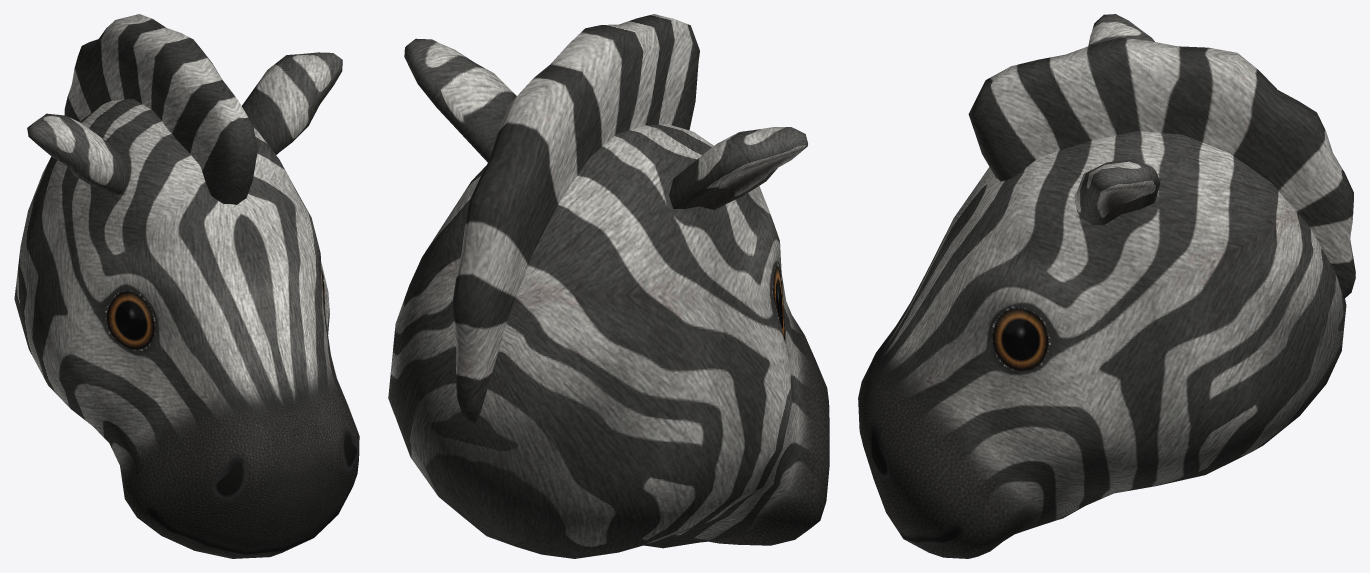
The model's file is CRT0110001.FBX.
3 views of the same model, side by side, from view 1: azimuth 30°, elevation 25°; view 2: azimuth 150°, elevation 25°; view 3: azimuth 270°, elevation 25° (orthographic). The views are drawn at different scales.
Visible parts, largest first — view 1: smCRT0110001; view 2: smCRT0110001; view 3: smCRT0110001.
Boxes of the visible parts, left/top/right/bottom form: smCRT0110001: left=14, top=14, right=359, bottom=558; smCRT0110001: left=388, top=14, right=829, bottom=558; smCRT0110001: left=858, top=14, right=1355, bottom=558.
Size of the model in its own units: 0.1619 by 0.2217 by 0.2016.
Materials: 1 (1 with a texture image).
